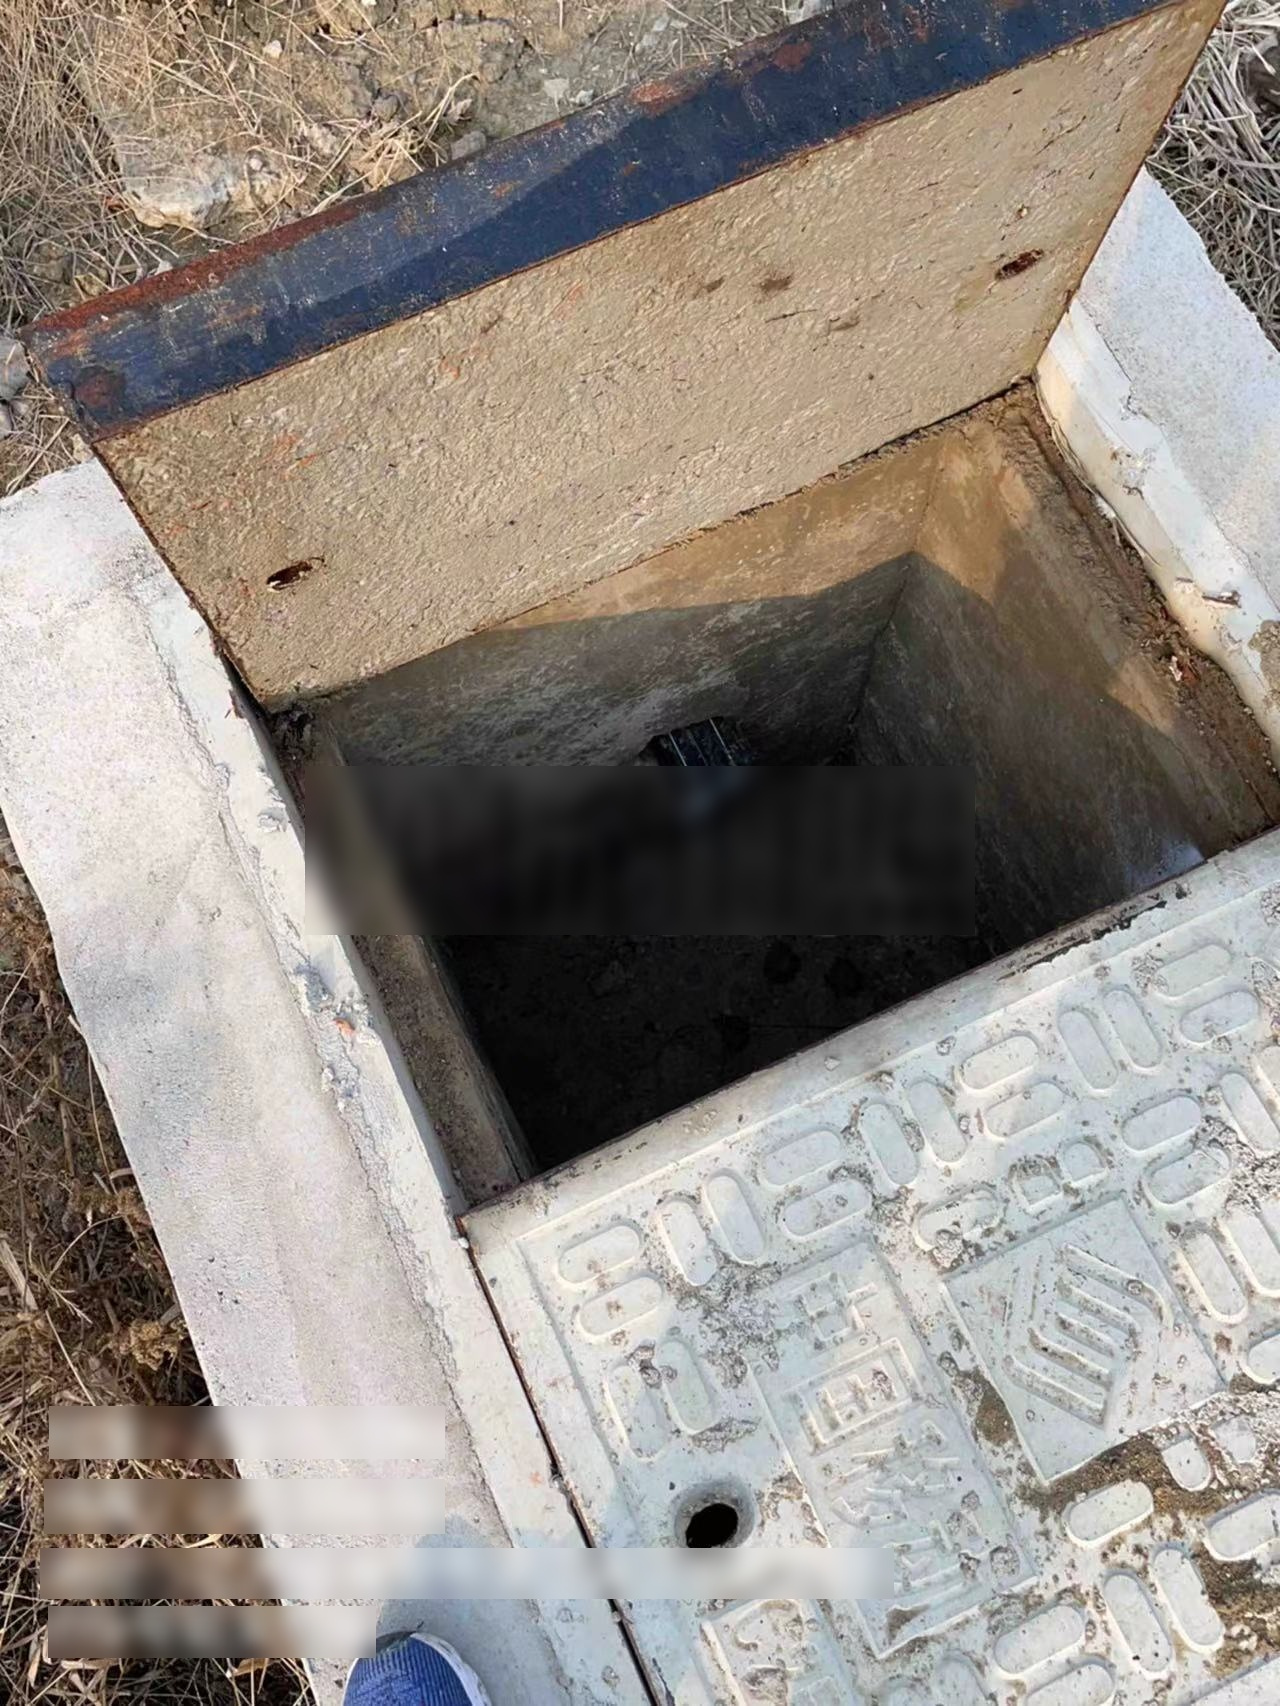uncovered: (15, 4, 1280, 1706)
